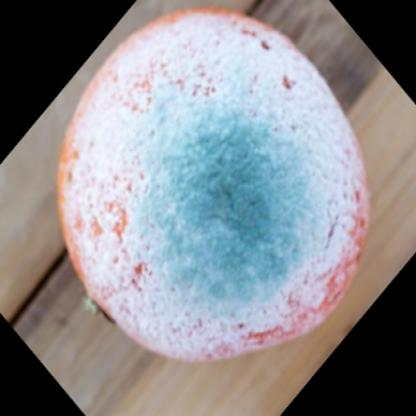rotten: (57, 7, 371, 367)
